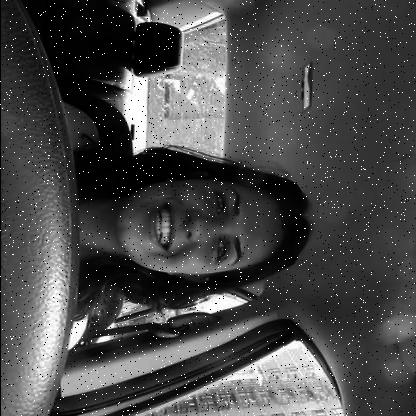no_seatbelt: (0, 151, 337, 346)
